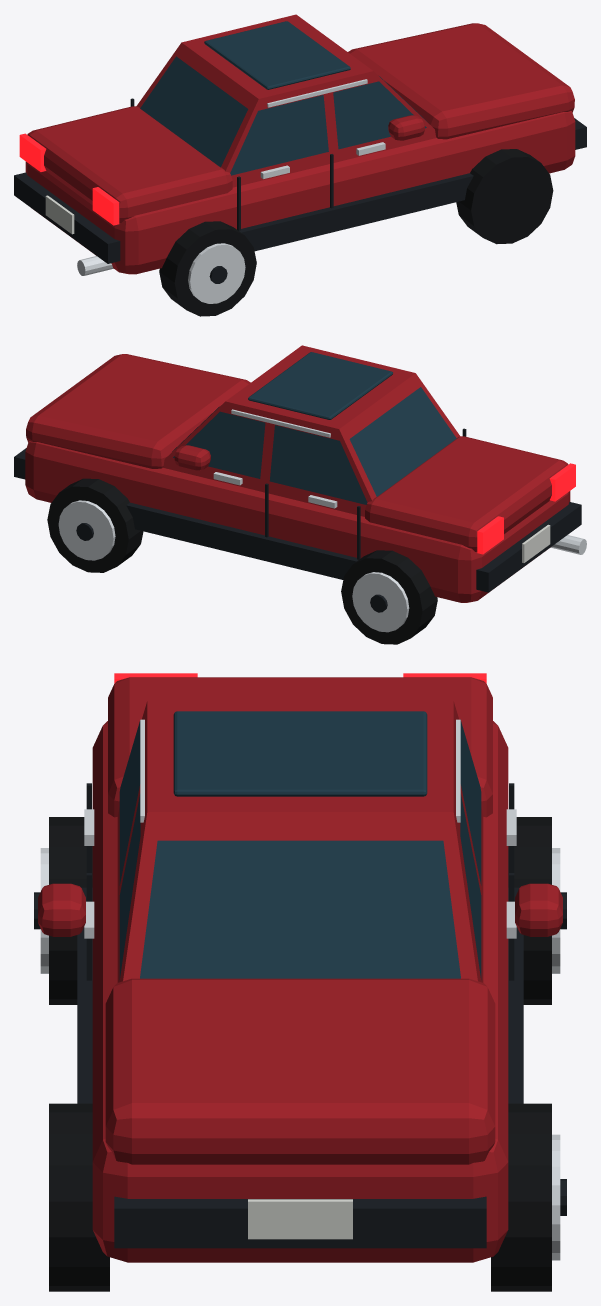
Rendered from Stage9.glb.
3 views of the same model, one above another, from view 1: azimuth 30°, elevation 25°; view 2: azimuth 150°, elevation 25°; view 3: azimuth 270°, elevation 25° (orthographic). The views are drawn at different scales.
Parts seen in each view (by area): view 1: LowerBody.008, Hood.008, Trunk.008, CabinShell.008, SideWindows.006, Tire_1.55_-1.008, RearWindow.007, RockerPanels.008, PanoramicRoof.001, Tire_-1.55_-1.009, Bumpers.007, Rim_-1.55_-1.009 (+7 smaller); view 2: LowerBody.008, Hood.008, Trunk.008, CabinShell.008, SideWindows.006, RearWindow.007, RockerPanels.008, PanoramicRoof.001, Tire_-1.55_1.009, Tire_1.55_1.009, Bumpers.007, Rim_1.55_1.009 (+8 smaller); view 3: Hood.008, Windshield.008, LowerBody.008, CabinShell.008, PanoramicRoof.001, Bumpers.007, Trunk.008, Tire_1.55_-1.008, Tire_1.55_1.009, SideWindows.006, RockerPanels.008, Tire_-1.55_-1.009 (+9 smaller).
Boxes of the visible parts, x1,y1,x2,y2 form: LowerBody.008: [25, 111, 575, 274]; Hood.008: [348, 23, 574, 139]; Trunk.008: [27, 106, 232, 222]; CabinShell.008: [136, 14, 436, 187]; SideWindows.006: [230, 81, 426, 175]; Tire_1.55_-1.008: [456, 149, 553, 244]; RearWindow.007: [140, 56, 248, 167]; RockerPanels.008: [239, 173, 473, 251]; PanoramicRoof.001: [204, 21, 350, 89]; Tire_-1.55_-1.009: [159, 221, 256, 316]; Bumpers.007: [14, 118, 586, 263]; Rim_-1.55_-1.009: [188, 243, 245, 303]; LowerBody.008: [25, 441, 570, 602]; Hood.008: [26, 354, 250, 468]; Trunk.008: [365, 436, 568, 551]; CabinShell.008: [163, 345, 460, 516]; SideWindows.006: [173, 411, 367, 504]; RearWindow.007: [349, 387, 456, 496]; RockerPanels.008: [126, 502, 358, 579]; PanoramicRoof.001: [248, 352, 392, 419]; Tire_-1.55_1.009: [341, 550, 437, 644]; Tire_1.55_1.009: [47, 478, 143, 572]; Bumpers.007: [14, 448, 581, 592]; Rim_1.55_1.009: [58, 500, 115, 560]; Hood.008: [105, 978, 495, 1164]; Windshield.008: [140, 840, 460, 978]; LowerBody.008: [92, 721, 508, 1262]; CabinShell.008: [117, 701, 483, 982]; PanoramicRoof.001: [173, 711, 427, 796]; Bumpers.007: [114, 1196, 486, 1248]; Trunk.008: [108, 677, 492, 817]; Tire_1.55_-1.008: [49, 1103, 109, 1291]; Tire_1.55_1.009: [491, 1103, 551, 1291]; SideWindows.006: [119, 719, 481, 979]; RockerPanels.008: [77, 887, 523, 1103]; Tire_-1.55_-1.009: [49, 817, 92, 1004].
Bounding box in the file's own units: 5.18 × 1.85 × 2.44.
